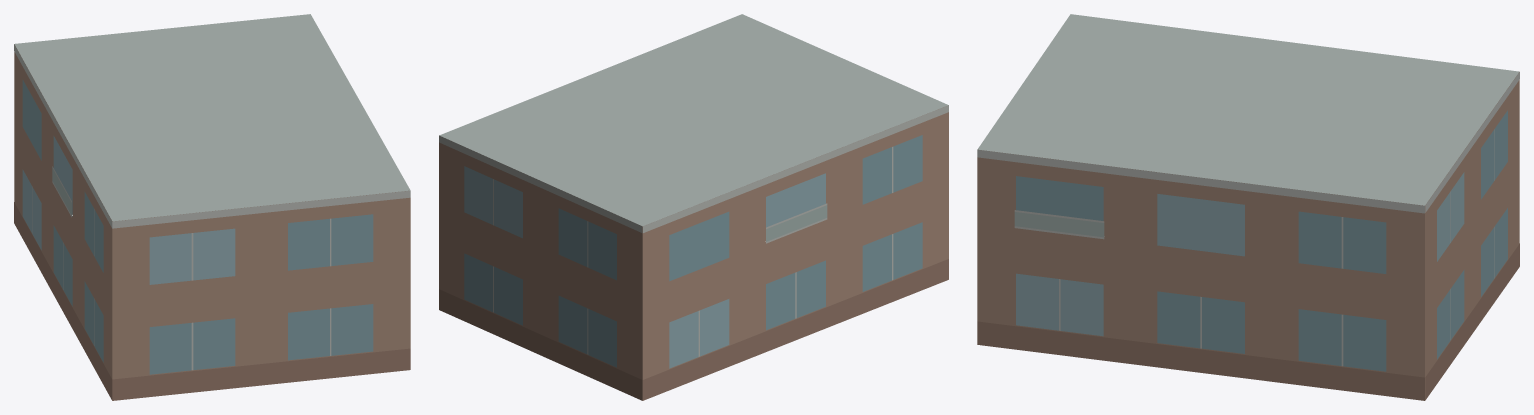
The model's file is survey-upis-32868537.glb.
The picture shows the model from 3 angles, left to right: view 1: azimuth 30°, elevation 25°; view 2: azimuth 150°, elevation 25°; view 3: azimuth 270°, elevation 25°; orthographic projection. The views are drawn at different scales.
Parts seen in each view (by area): view 1: survey-upis-32868537.tmp; view 2: survey-upis-32868537.tmp; view 3: survey-upis-32868537.tmp.
Part boxes in pixels (x1,y1,x2,y2): survey-upis-32868537.tmp: (14,14,410,400); survey-upis-32868537.tmp: (439,14,948,400); survey-upis-32868537.tmp: (977,14,1519,400).
Size of the model in its own units: 12.86 by 6.1 by 15.37.
